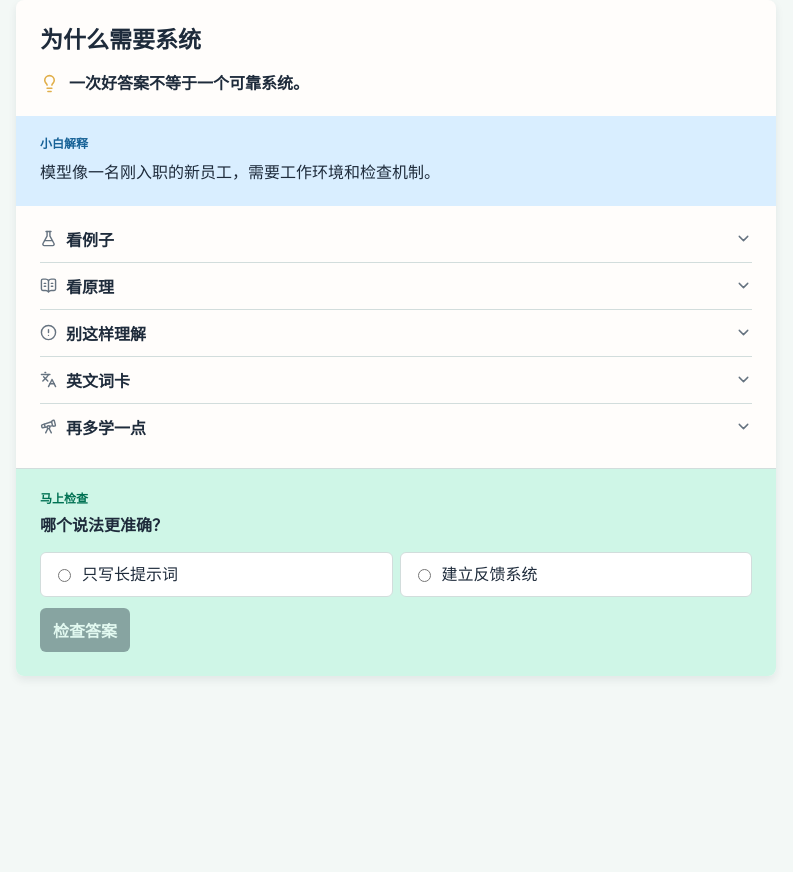
Test case: LearningUnitCard › renders every term with adjacent Chinese meaning
This screenshot has width=793, height=872.
Click the button "英文词卡": (98, 381) [40,357,752,403]
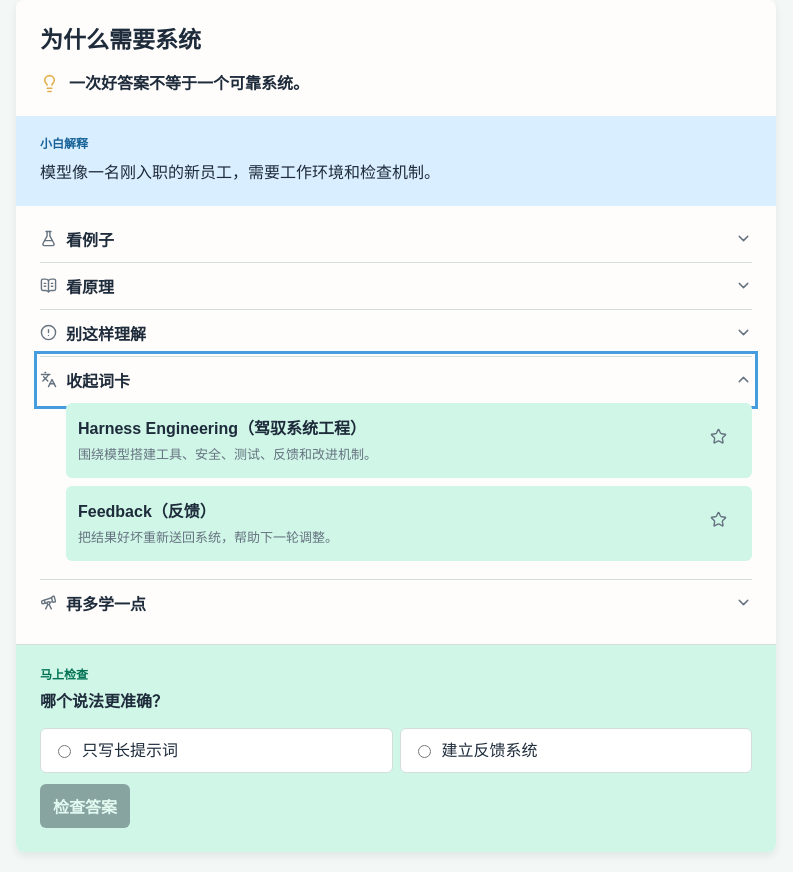
Check: the text "Harness Engineering（驾驭系统工程）" is shown, box [78,420,366,437]
Check: the text "Feedback（反馈）" is shown, box [78,503,216,520]
